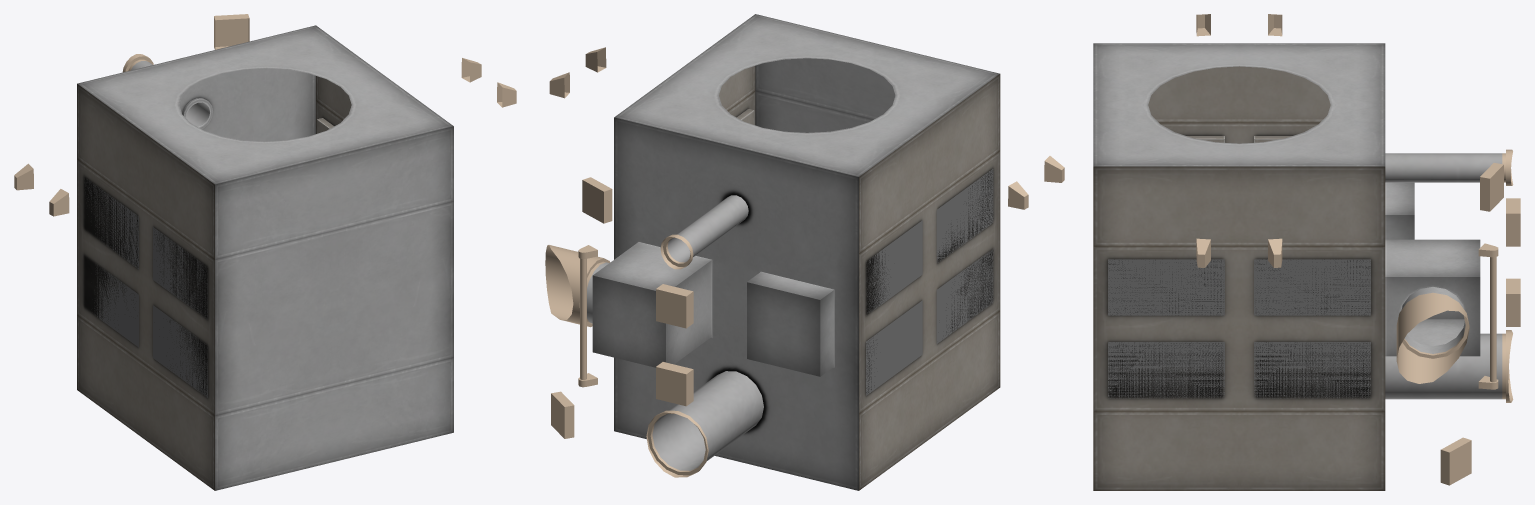
The model's file is short lab interior.obj.
The picture shows the model from 3 angles, left to right: view 1: azimuth 30°, elevation 25°; view 2: azimuth 150°, elevation 25°; view 3: azimuth 270°, elevation 25°; orthographic projection. The views are drawn at different scales.
Visible parts, largest first — view 1: i1, im1; view 2: i1, im1; view 3: i1, im1.
Boxes of the visible parts, left/top/right/bottom form: i1: left=77, top=25, right=453, bottom=490; im1: left=14, top=14, right=516, bottom=216; i1: left=587, top=14, right=1000, bottom=490; im1: left=545, top=47, right=1064, bottom=477; i1: left=1093, top=43, right=1502, bottom=490; im1: left=1196, top=14, right=1520, bottom=485.
Bounding box in the file's own units: 1.94 × 1.23 × 1.46.
Materials: 2 (1 with a texture image).
